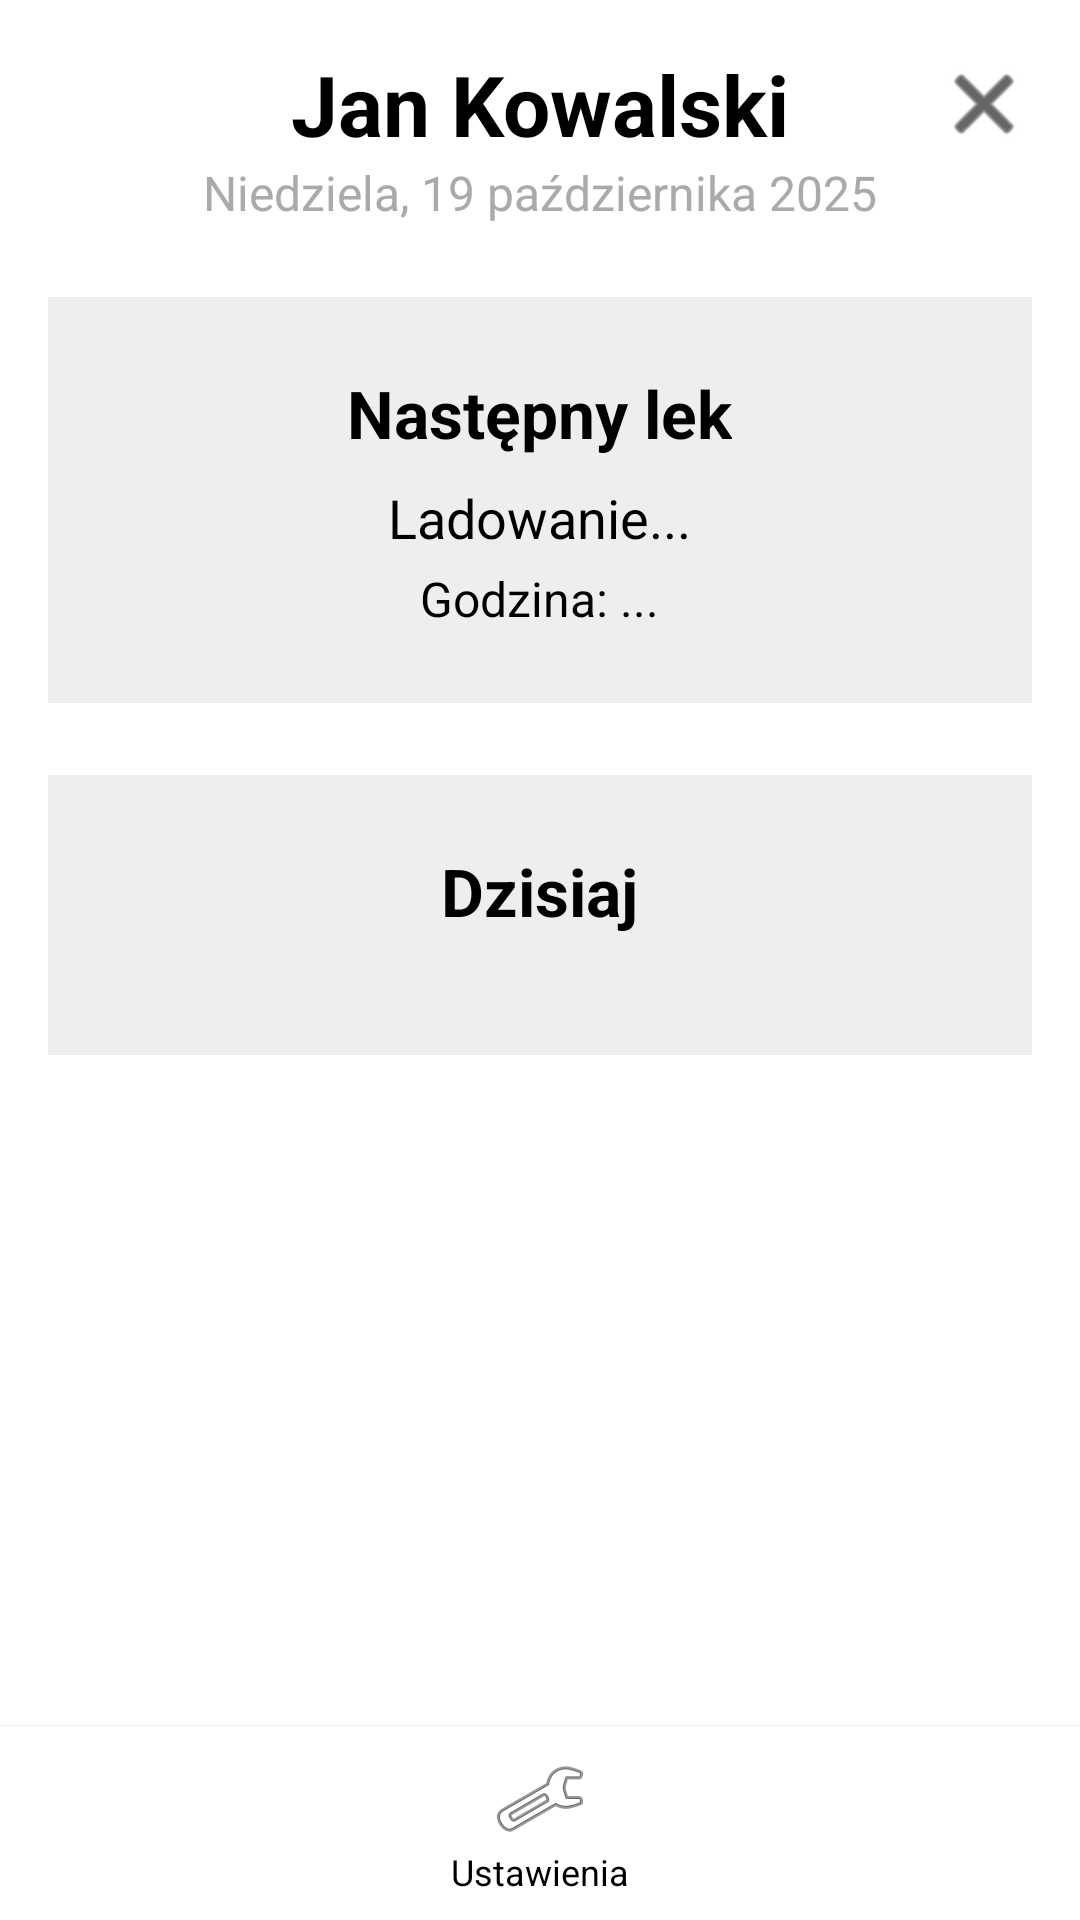

Point at icon controls on the screen. Image size 1080×1920, points as (x=x, y=y).
close clear cancel: (x=984, y=104)
